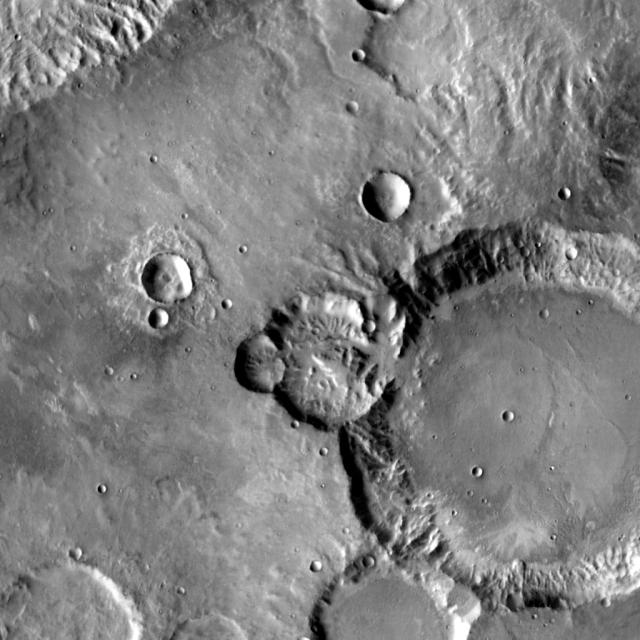crater: (340, 224, 640, 616), (266, 292, 402, 426), (316, 554, 482, 640), (0, 562, 142, 640), (372, 0, 476, 89), (241, 336, 298, 392), (151, 256, 200, 305), (370, 174, 418, 222), (155, 310, 176, 330), (368, 320, 382, 333), (567, 190, 580, 203), (360, 49, 372, 62), (318, 561, 330, 573), (77, 547, 89, 559), (574, 252, 586, 264), (370, 557, 382, 569), (512, 414, 522, 425), (481, 469, 491, 479), (356, 102, 366, 112), (229, 300, 239, 310), (608, 600, 618, 610), (548, 312, 558, 321), (105, 485, 115, 494), (528, 249, 537, 259), (532, 276, 541, 285), (522, 240, 530, 250), (299, 421, 308, 429), (321, 440, 329, 448), (247, 245, 255, 253), (114, 367, 122, 375), (318, 327, 326, 335), (612, 263, 620, 271), (152, 148, 159, 156), (180, 579, 187, 587), (130, 366, 138, 373), (342, 522, 350, 528), (15, 28, 22, 34), (498, 249, 504, 256), (590, 72, 596, 78), (434, 142, 440, 148)
